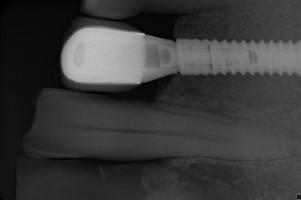Furcation Involvement: (182, 163, 257, 200)
